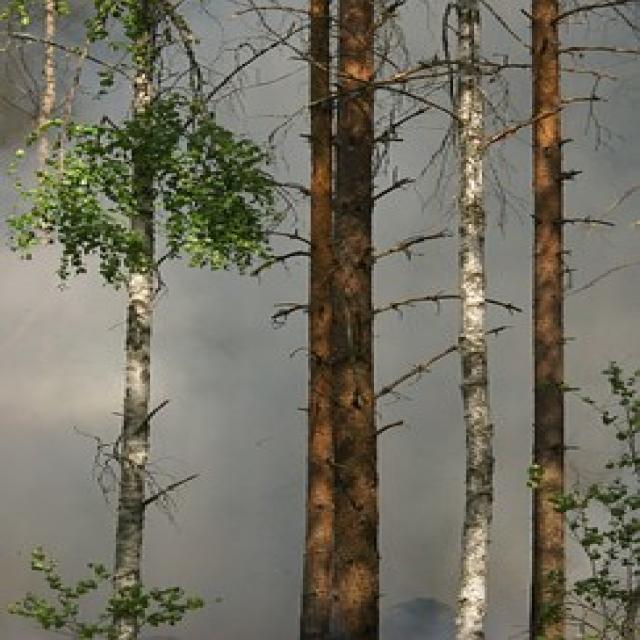Smoke: (0, 93, 637, 575)
